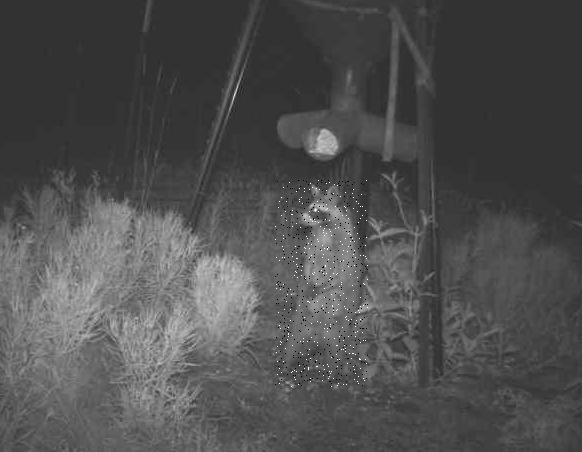Raccoon: (275, 181, 368, 388)
